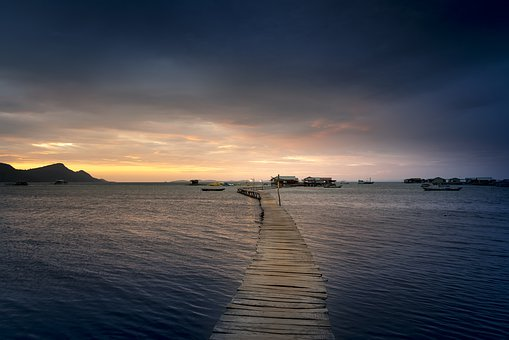sea: (8, 182, 506, 336)
sky: (3, 1, 503, 176)
